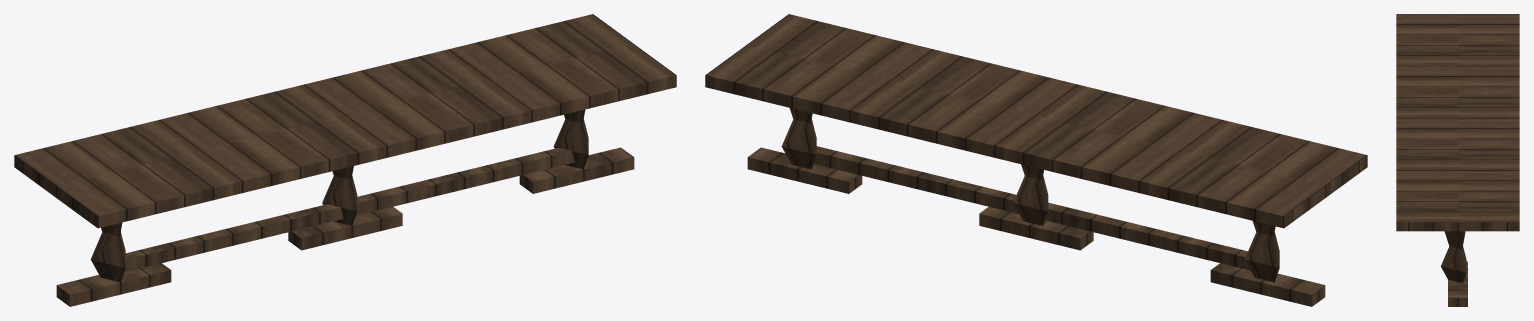
File: Table_Carved_Long_1_LOD2.gltf
3 views of the same model, side by side, from view 1: azimuth 30°, elevation 25°; view 2: azimuth 150°, elevation 25°; view 3: azimuth 270°, elevation 25° (orthographic). The views are drawn at different scales.
Parts seen in each view (by area): view 1: Table_Carved_Long_1_LOD2; view 2: Table_Carved_Long_1_LOD2; view 3: Table_Carved_Long_1_LOD2.
Part boxes in pixels (x1,y1,x2,y2): Table_Carved_Long_1_LOD2: [14, 14, 676, 306]; Table_Carved_Long_1_LOD2: [705, 14, 1367, 306]; Table_Carved_Long_1_LOD2: [1396, 14, 1519, 306].
Bounding box in the file's own units: 4 × 0.78 × 1.
Materials: 1 (1 with a texture image).
